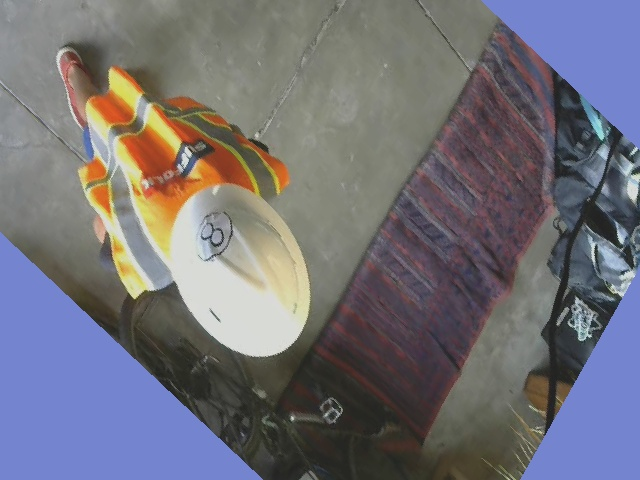eight: (185, 200, 239, 273)
